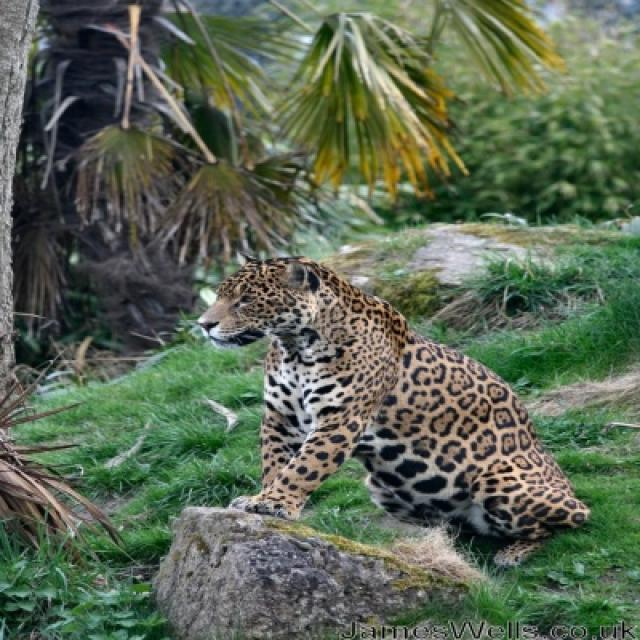Jaguar: (197, 258, 590, 576)
